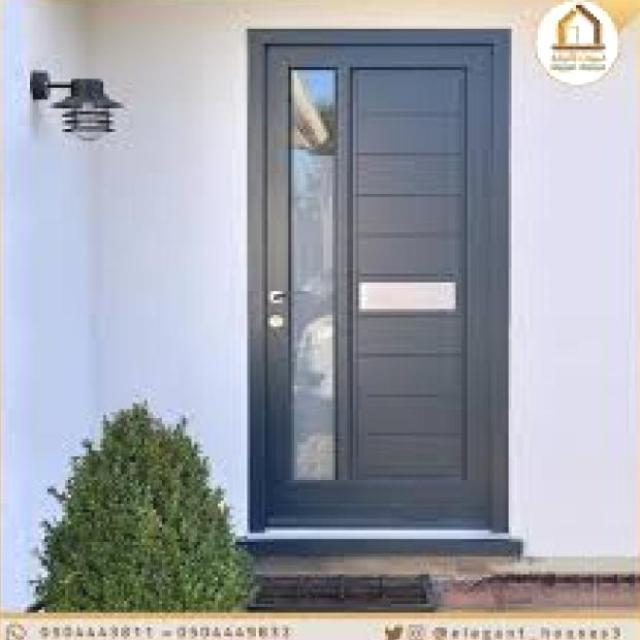door: (250, 33, 510, 535)
